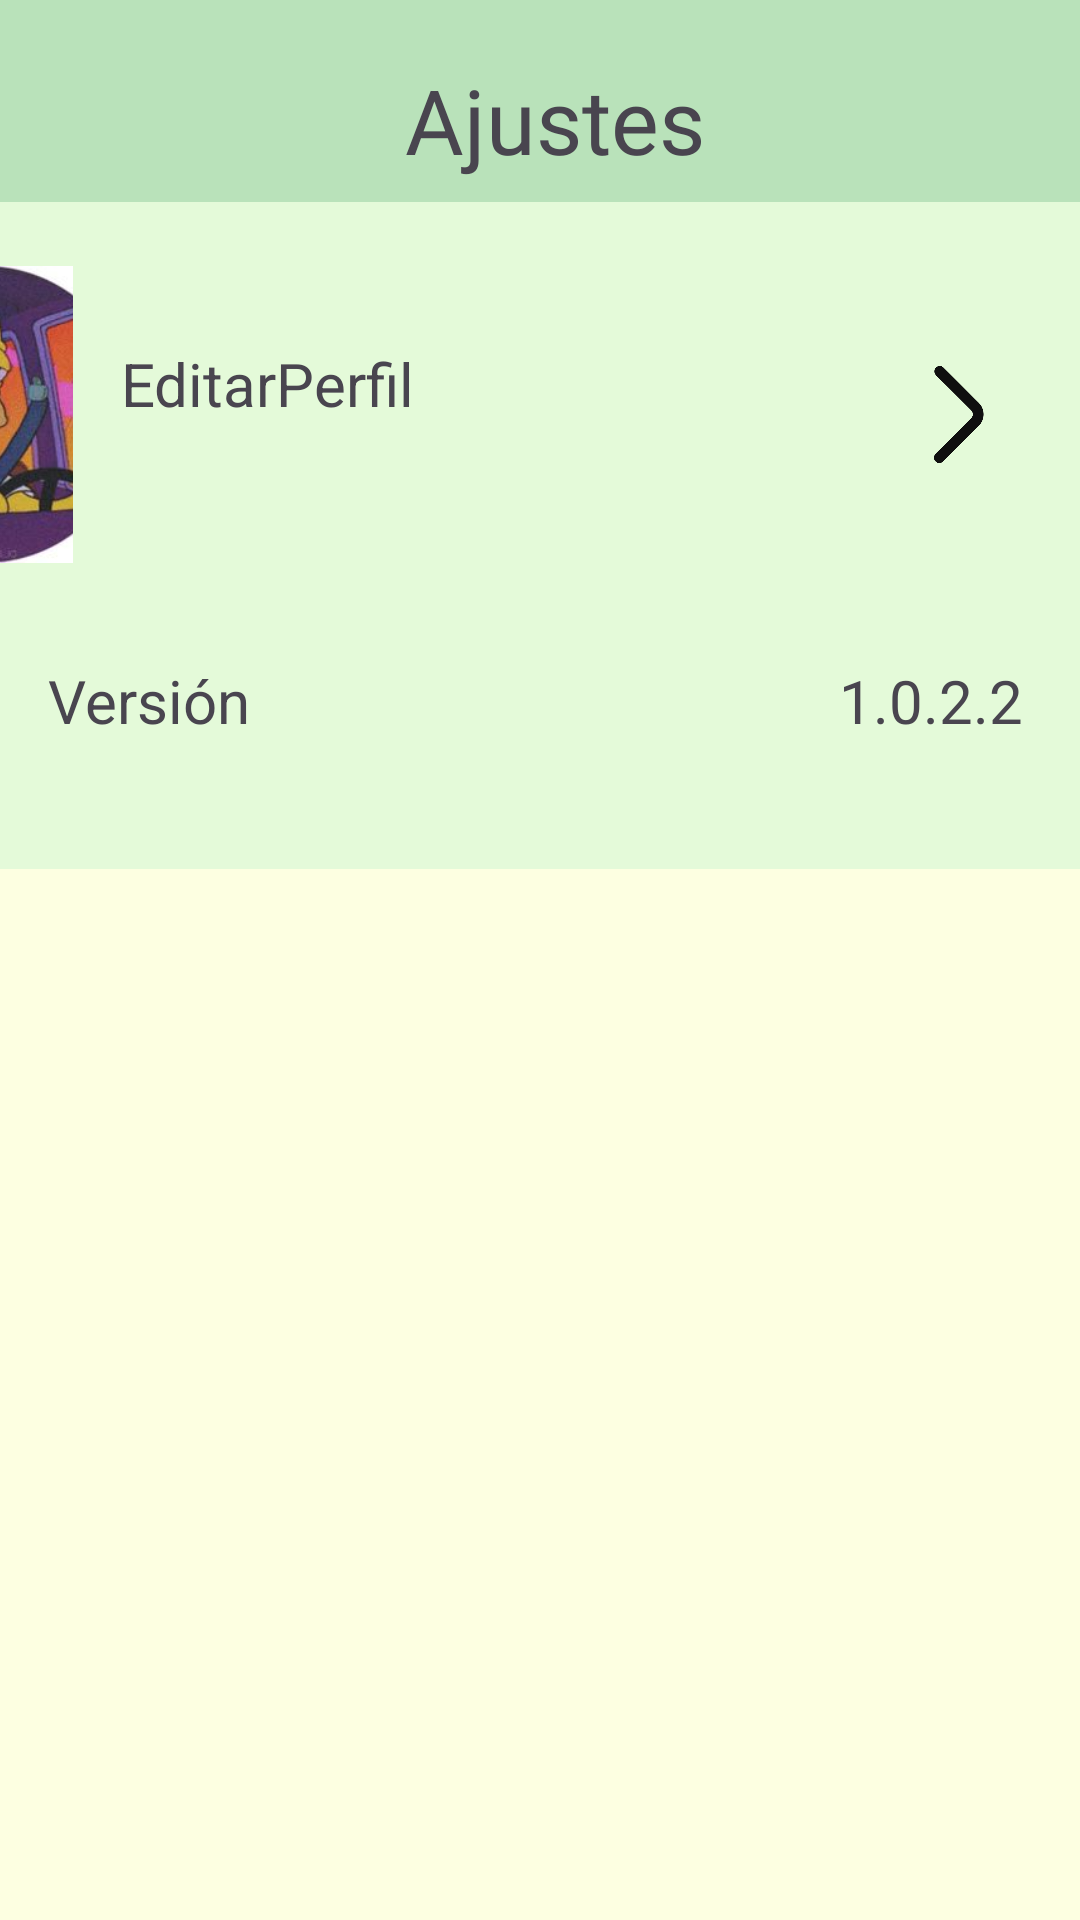

Screen size 1080w x 1920h. Icon name, then its box in pixels as (left=x1, top=y1, right=x2, bottom=y2):
flechadelado: (left=934, top=366, right=984, bottom=463)
